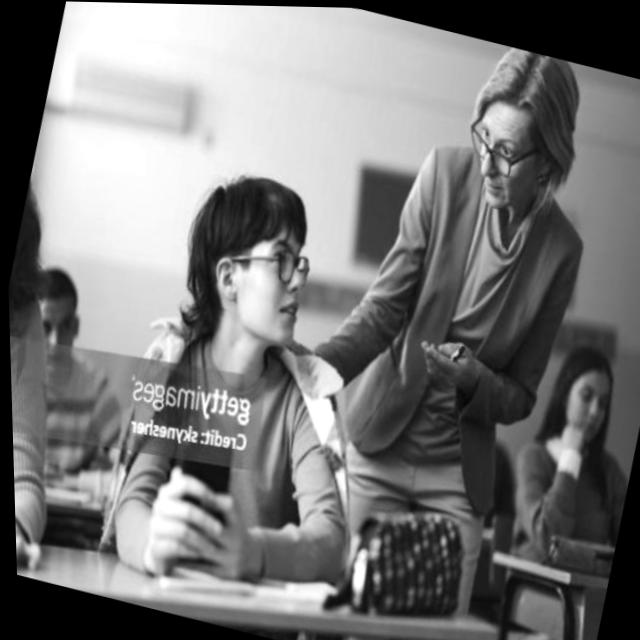phone: (153, 431, 247, 573), (447, 338, 467, 361)
